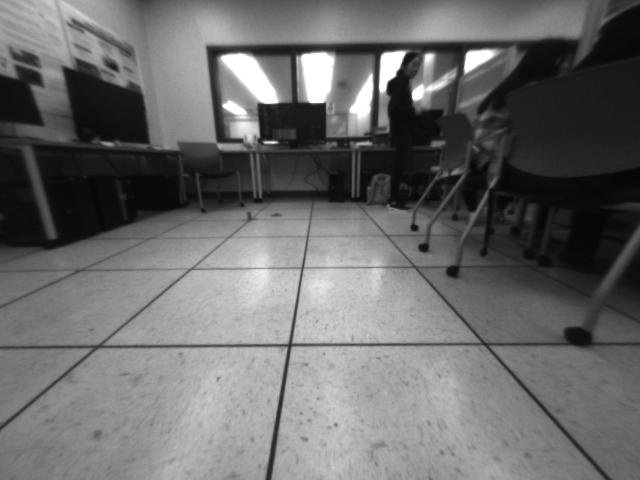X: (239, 209, 259, 224)
